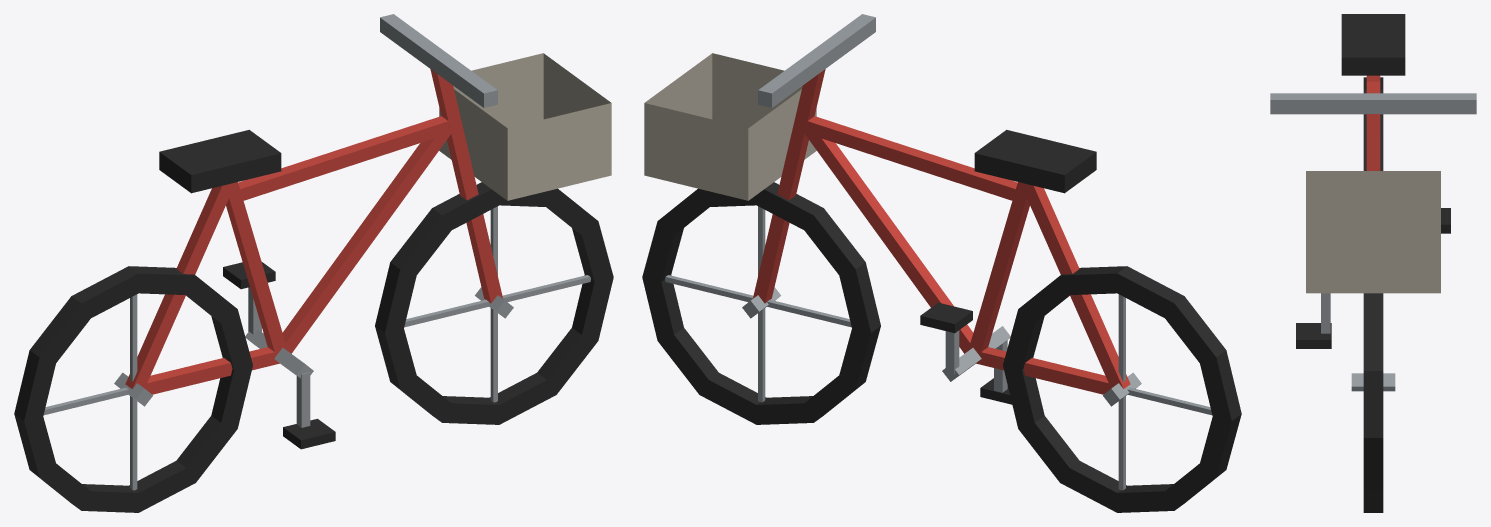
The model's file is bike.glb.
3 renders of one model, left to right at view 1: azimuth 30°, elevation 25°; view 2: azimuth 150°, elevation 25°; view 3: azimuth 270°, elevation 25°, orthographic.
Parts seen in each view (by area): view 1: frame, wheelRearMesh, wheelFrontMesh, pedals; view 2: frame, wheelRearMesh, wheelFrontMesh, pedals; view 3: frame, wheelFrontMesh, pedals, wheelRearMesh.
Part boxes in pixels (x1,y1,x2,y2): frame: [125, 14, 611, 394]; wheelRearMesh: [14, 266, 252, 512]; wheelFrontMesh: [375, 182, 613, 424]; pedals: [223, 261, 335, 449]; frame: [644, 14, 1130, 394]; wheelRearMesh: [1003, 266, 1241, 512]; wheelFrontMesh: [642, 182, 880, 424]; pedals: [920, 302, 1012, 404]; frame: [1270, 14, 1476, 293]; wheelFrontMesh: [1351, 293, 1395, 512]; pedals: [1296, 208, 1450, 348]; wheelRearMesh: [1363, 77, 1383, 170].
Size of the model in its own units: 1.7 by 1.05 by 0.52.
